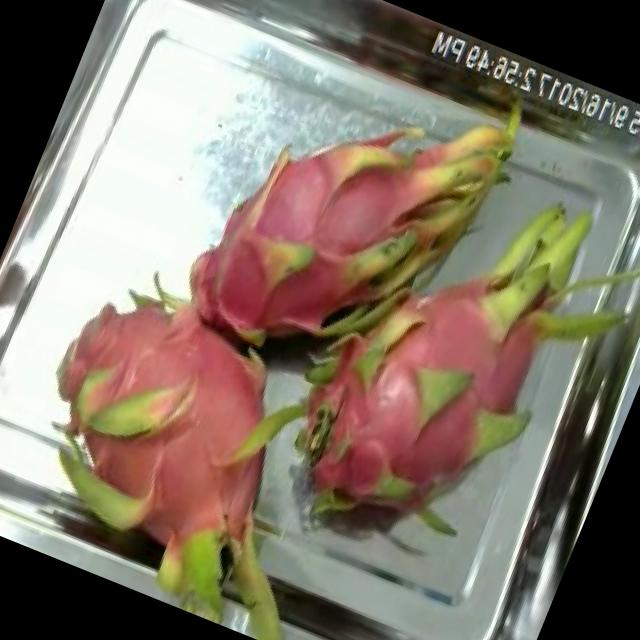Fruit: (27, 256, 212, 462)
